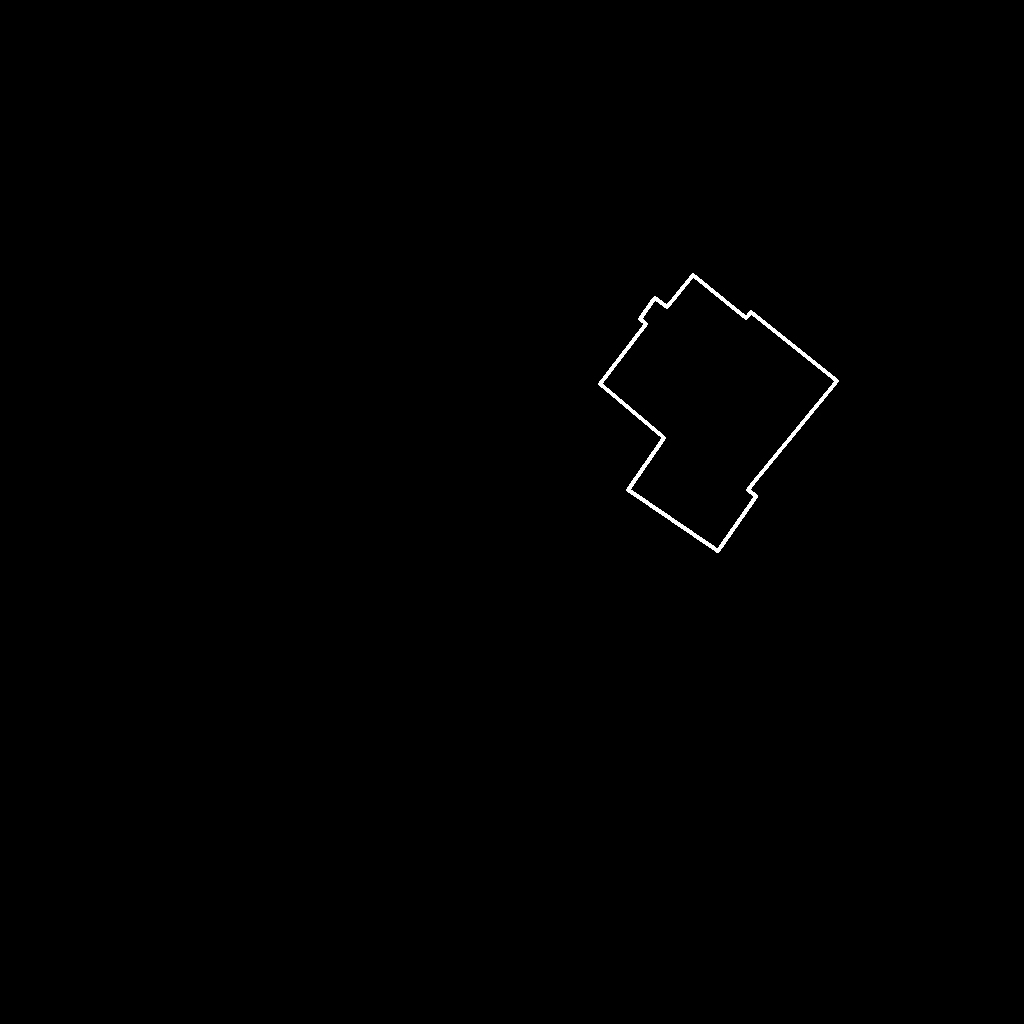building: (600, 275, 838, 552)
